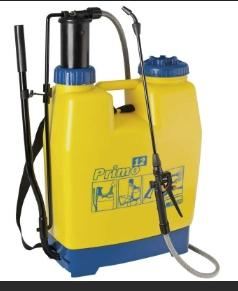PULVERISATEUR: (0, 6, 238, 291)
